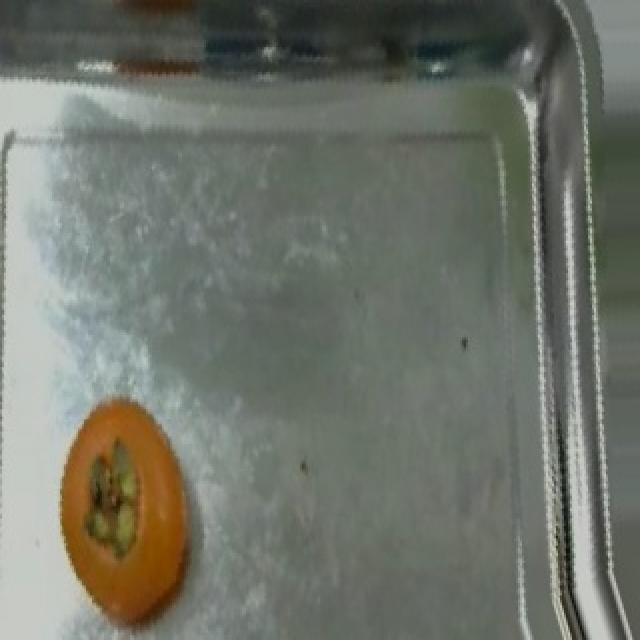Fruit: (36, 380, 218, 638)
